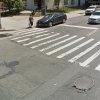Crosswalk: (14, 27, 100, 74)
